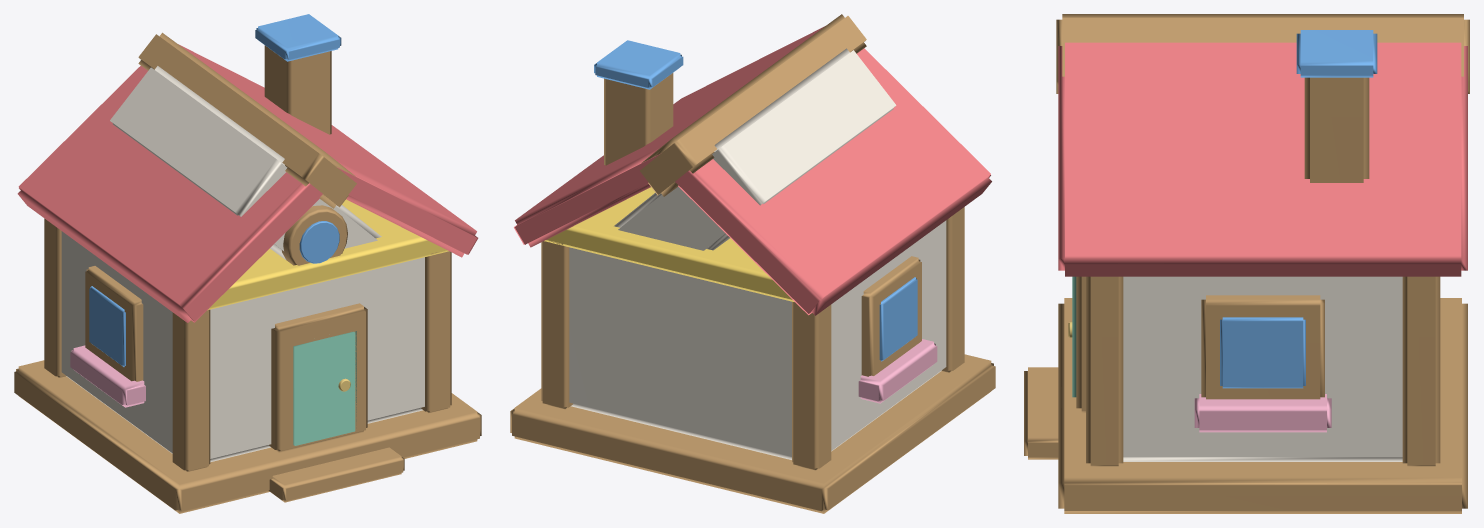
File: toy_house_red.glb
3 renders of one model, left to right at view 1: azimuth 30°, elevation 25°; view 2: azimuth 150°, elevation 25°; view 3: azimuth 270°, elevation 25°, orthographic. The views are drawn at different scales.
Parts seen in each view (by area): view 1: Body, RoofSlab_L, Plinth, GableCore, RoofSlab_R, RoofGable, EaveBand, DoorFrame, DoorLeaf, CornerPost_-1.28_-1.18, Chimney, CornerPost_1.28_-1.18 (+8 smaller); view 2: Body, RoofSlab_L, Plinth, GableCore, RoofSlab_R, RoofGable, EaveBand, CornerPost_-1.28_1.18, CornerPost_1.28_1.18, Chimney, SideWinFrame_-1.0, CornerPost_-1.28_-1.18 (+3 smaller); view 3: RoofSlab_R, Body, Plinth, RoofGable, CornerPost_1.28_1.18, CornerPost_1.28_-1.18, SideWinFrame_1.0, Chimney, SideWinPane_1.0, SidePlanter_1.0, ChimneyCap, PorchStep (+2 smaller).
Boxes of the visible parts, left/top/right/bottom form: Body: left=61, top=231, right=424, bottom=462; RoofSlab_L: left=17, top=66, right=322, bottom=322; Plinth: left=14, top=360, right=481, bottom=513; GableCore: left=110, top=66, right=381, bottom=259; RoofSlab_R: left=178, top=44, right=478, bottom=257; RoofGable: left=138, top=32, right=356, bottom=208; EaveBand: left=207, top=199, right=448, bottom=310; DoorFrame: left=268, top=303, right=367, bottom=452; DoorLeaf: left=293, top=331, right=356, bottom=445; CornerPost_-1.28_-1.18: left=172, top=309, right=210, bottom=471; Chimney: left=264, top=45, right=331, bottom=134; CornerPost_1.28_-1.18: left=421, top=251, right=451, bottom=412; Body: left=569, top=220, right=946, bottom=459; RoofSlab_L: left=675, top=48, right=991, bottom=315; Plinth: left=510, top=354, right=995, bottom=513; GableCore: left=614, top=48, right=896, bottom=250; RoofSlab_R: left=514, top=26, right=824, bottom=247; RoofGable: left=640, top=14, right=866, bottom=196; EaveBand: left=544, top=187, right=794, bottom=301; CornerPost_-1.28_1.18: left=792, top=301, right=831, bottom=470; CornerPost_1.28_1.18: left=541, top=240, right=572, bottom=409; Chimney: left=604, top=73, right=673, bottom=165; SideWinFrame_-1.0: left=861, top=256, right=921, bottom=376; CornerPost_-1.28_-1.18: left=941, top=207, right=964, bottom=372; RoofSlab_R: left=1058, top=42, right=1467, bottom=276; Body: left=1123, top=276, right=1402, bottom=461; Plinth: left=1058, top=298, right=1467, bottom=513; RoofGable: left=1056, top=14, right=1469, bottom=93; CornerPost_1.28_1.18: left=1402, top=276, right=1440, bottom=466; CornerPost_1.28_-1.18: left=1086, top=276, right=1123, bottom=466; SideWinFrame_1.0: left=1201, top=295, right=1324, bottom=399; Chimney: left=1304, top=77, right=1369, bottom=182; SideWinPane_1.0: left=1220, top=317, right=1305, bottom=388; SidePlanter_1.0: left=1194, top=394, right=1331, bottom=432; ChimneyCap: left=1296, top=30, right=1377, bottom=77; PorchStep: left=1024, top=367, right=1058, bottom=459.
Size of the model in its own units: 3.25 by 3.51 by 3.32.
